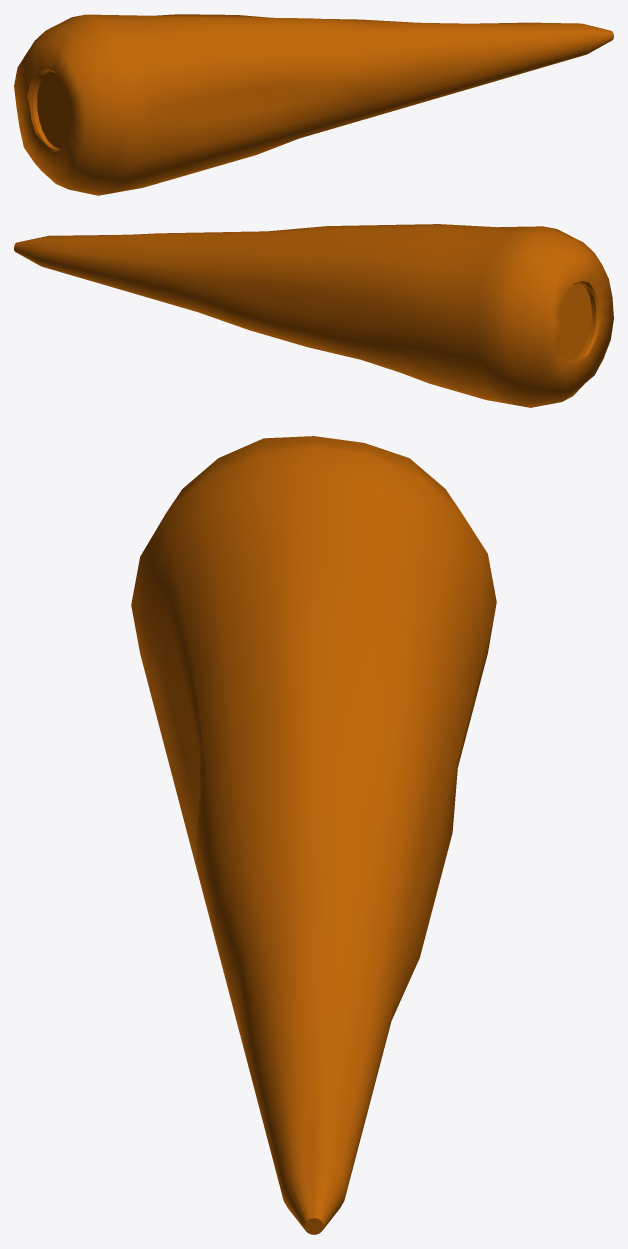
Rendered from mesh_Carrot_FullCarrot.fbx.
3 renders of one model, top to bottom at view 1: azimuth 30°, elevation 25°; view 2: azimuth 150°, elevation 25°; view 3: azimuth 270°, elevation 25°, orthographic. The views are drawn at different scales.
Visible parts, largest first — view 1: mesh_Carrot_FullCarrot; view 2: mesh_Carrot_FullCarrot; view 3: mesh_Carrot_FullCarrot.
Boxes of the visible parts, x1,y1,x2,y2 form: mesh_Carrot_FullCarrot: [14, 14, 613, 195]; mesh_Carrot_FullCarrot: [14, 224, 613, 407]; mesh_Carrot_FullCarrot: [131, 436, 496, 1234].
Size of the model in its own units: 0.1831 by 0.0519 by 0.051.
